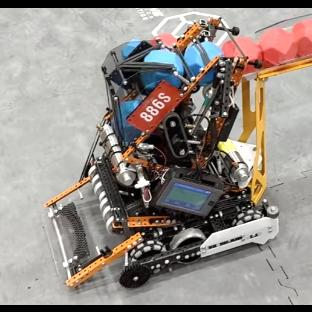Goal: (239, 52, 311, 201), (256, 12, 311, 36)
Robot: (36, 9, 238, 274)
V5_BLUE: (140, 48, 184, 92), (184, 40, 223, 74), (122, 99, 141, 144), (122, 38, 141, 58), (200, 73, 212, 84)
V5_RED: (258, 28, 297, 66), (222, 36, 262, 60), (291, 18, 311, 54), (245, 64, 256, 73)
